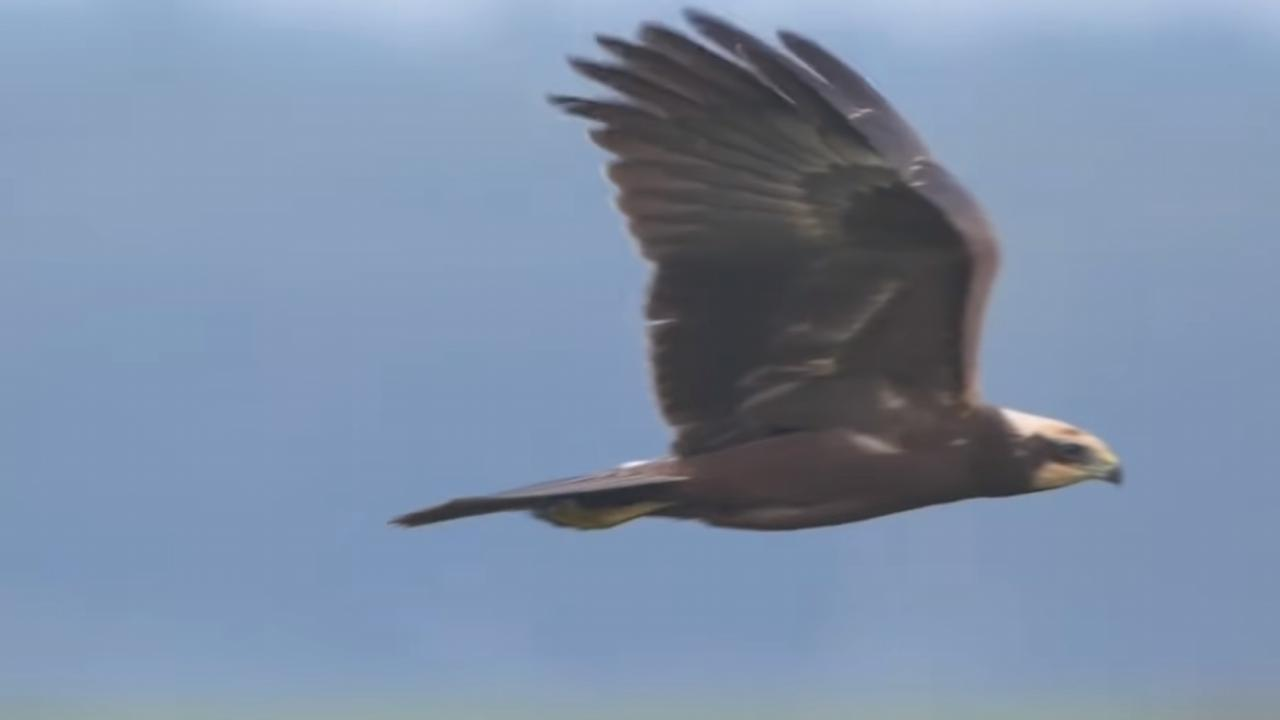Bird: (371, 0, 1143, 548)
